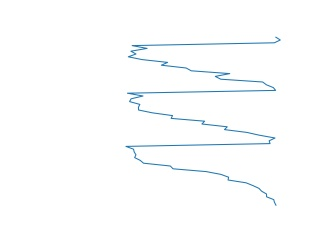distributaryMouthBar: (124, 36, 283, 207)
